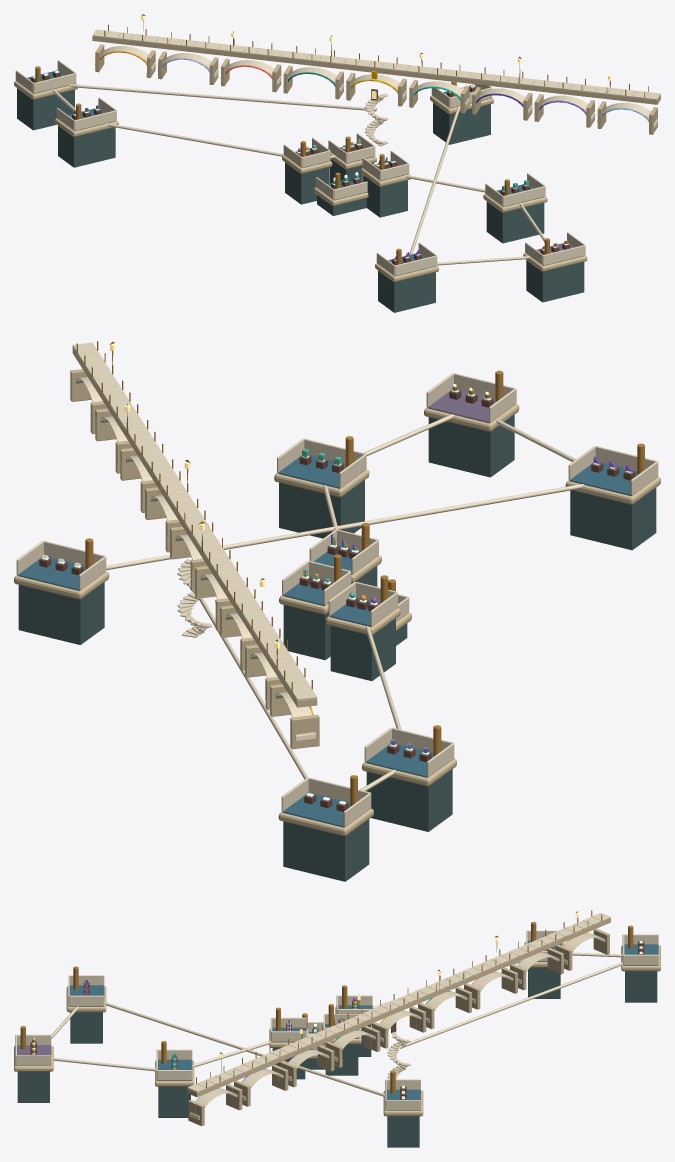
File: kontextia-labore-live.glb
The picture shows the model from 3 angles, top to bottom: view 1: azimuth 30°, elevation 25°; view 2: azimuth 150°, elevation 25°; view 3: azimuth 270°, elevation 25°; orthographic projection. The views are drawn at different scales.
Visible parts, largest first — view 1: bridge__0, bridge__2, corridors__architecture__Carved pale stone, Laborgeschoss unter: Lernschmiede im Geschichtsviertel deep , Laborgeschoss unter: Stufengebirge deep foundation, Laborgeschoss unter: Kartenwald und Bedeutungsgarten deep fo, Laborgeschoss unter: Kästnerviertel deep foundation, Laborgeschoss unter: Stadtmauer am Meer (Blick aufs Quellena, Laborgeschoss unter: Tokenhafen mit Rathaus deep foundation, Laborgeschoss unter: Logitmarkt auf der Turmspitze deep foun, FINALE__architecture__Carved pale stone, Laborgeschoss unter: Sternwarte im Turm der Schichten deep f (+11 smaller); view 2: bridge__0, bridge__2, Laborgeschoss unter: Stadtmauer am Meer (Blick aufs Quellena (×3), corridors__architecture__Carved pale stone, Laborgeschoss unter: Stufengebirge deep foundation, Laborgeschoss unter: Tokenhafen mit Rathaus deep foundation, Laborgeschoss unter: Lernschmiede im Geschichtsviertel deep , Laborgeschoss unter: Kartenwald und Bedeutungsgarten deep fo, Laborgeschoss unter: Kästnerviertel deep foundation, Laborgeschoss unter: Sternwarte im Turm der Schichten deep f, Laborgeschoss unter: Werkstätten im Turm der Schichten deep , L09__architecture__Carved pale stone (+20 smaller); view 3: bridge__2, bridge__0, corridors__architecture__Carved pale stone, Laborgeschoss unter: Stadtmauer am Meer (Blick aufs Quellena (×2), Laborgeschoss unter: Tokenhafen mit Rathaus deep foundation, Laborgeschoss unter: Lernschmiede im Geschichtsviertel deep , Laborgeschoss unter: Stufengebirge deep foundation, Laborgeschoss unter: Kästnerviertel deep foundation, Laborgeschoss unter: Kartenwald und Bedeutungsgarten deep fo, L01__architecture__Carved pale stone, L08__architecture__Carved pale stone, L09__architecture__Carved pale stone (+9 smaller).
Boxes of the visible parts, box(x1,y1,x2,y2) form: bridge__0: box(92, 29, 660, 128); bridge__2: box(92, 36, 660, 134); corridors__architecture__Carved pale stone: box(52, 84, 550, 265); Laborgeschoss unter: Lernschmiede im Geschichtsviertel deep : box(526, 260, 584, 302); Laborgeschoss unter: Stufengebirge deep foundation: box(378, 270, 435, 312); Laborgeschoss unter: Kartenwald und Bedeutungsgarten deep fo: box(58, 126, 115, 167); Laborgeschoss unter: Kästnerviertel deep foundation: box(486, 201, 544, 243); Laborgeschoss unter: Stadtmauer am Meer (Blick aufs Quellena: box(433, 102, 490, 144); Laborgeschoss unter: Tokenhafen mit Rathaus deep foundation: box(17, 88, 74, 130); Laborgeschoss unter: Logitmarkt auf der Turmspitze deep foun: box(363, 175, 407, 217); FINALE__architecture__Carved pale stone: box(315, 93, 388, 199); Laborgeschoss unter: Sternwarte im Turm der Schichten deep f: box(285, 162, 329, 204); bridge__0: box(72, 342, 317, 740); bridge__2: box(70, 347, 319, 749); Laborgeschoss unter: Stadtmauer am Meer (Blick aufs Quellena (×3): box(14, 557, 109, 644); corridors__architecture__Carved pale stone: box(106, 414, 584, 791); Laborgeschoss unter: Stufengebirge deep foundation: box(570, 488, 656, 550); Laborgeschoss unter: Tokenhafen mit Rathaus deep foundation: box(283, 819, 369, 881); Laborgeschoss unter: Lernschmiede im Geschichtsviertel deep : box(428, 415, 514, 477); Laborgeschoss unter: Kartenwald und Bedeutungsgarten deep fo: box(366, 769, 452, 831); Laborgeschoss unter: Kästnerviertel deep foundation: box(279, 480, 364, 538); Laborgeschoss unter: Sternwarte im Turm der Schichten deep f: box(330, 618, 395, 680); Laborgeschoss unter: Werkstätten im Turm der Schichten deep : box(283, 605, 330, 660); L09__architecture__Carved pale stone: box(16, 540, 106, 590); bridge__2: box(187, 918, 610, 1126); bridge__0: box(187, 913, 610, 1119); corridors__architecture__Carved pale stone: box(51, 952, 622, 1096); Laborgeschoss unter: Stadtmauer am Meer (Blick aufs Quellena (×2): box(383, 1090, 423, 1147); Laborgeschoss unter: Tokenhafen mit Rathaus deep foundation: box(625, 971, 657, 1002); Laborgeschoss unter: Lernschmiede im Geschichtsviertel deep : box(17, 1071, 49, 1102); Laborgeschoss unter: Stufengebirge deep foundation: box(70, 1012, 102, 1043); Laborgeschoss unter: Kästnerviertel deep foundation: box(158, 1086, 190, 1117); Laborgeschoss unter: Kartenwald und Bedeutungsgarten deep fo: box(528, 967, 560, 998); L01__architecture__Carved pale stone: box(622, 934, 658, 965); L08__architecture__Carved pale stone: box(68, 975, 104, 1006); L09__architecture__Carved pale stone: box(385, 1079, 420, 1110).
Size of what is drawn, in the model's own units: 55.57 by 14.18 by 73.5.
